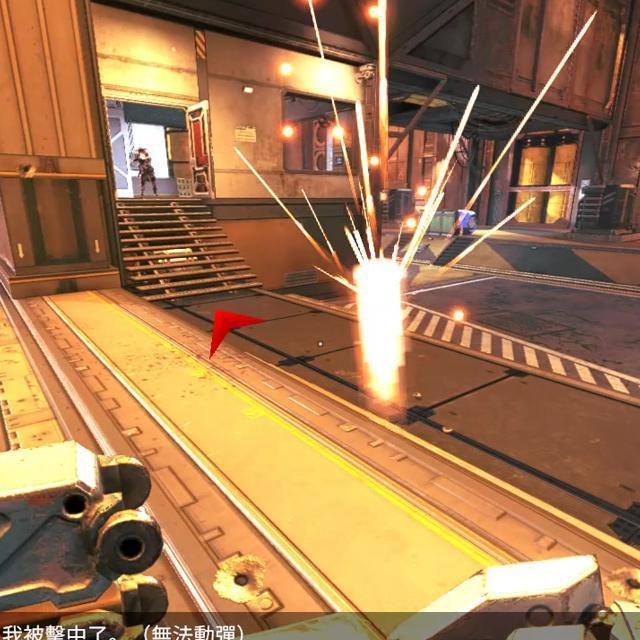avatar: (133, 146, 160, 198)
